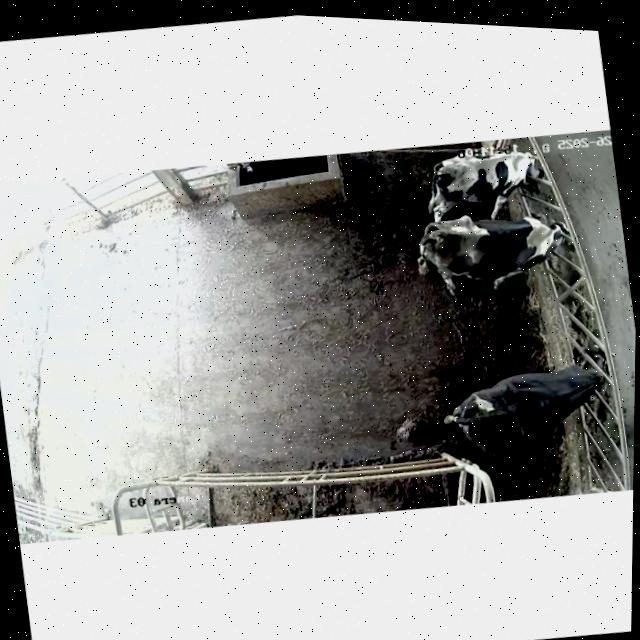eat: (540, 322, 636, 412), (503, 203, 598, 269), (487, 135, 570, 206)
